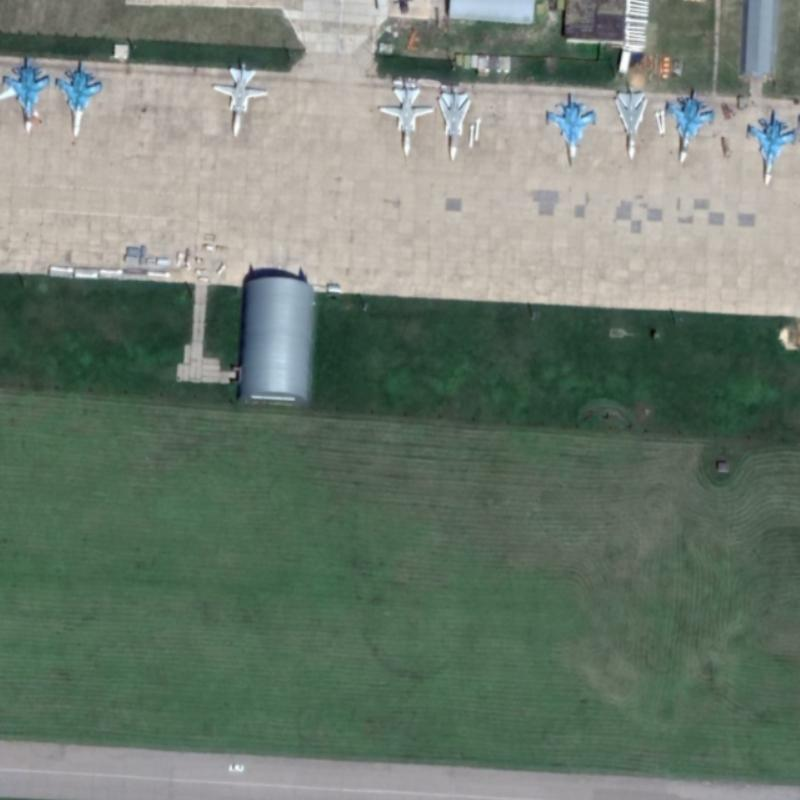A19: (745, 110, 797, 187), (2, 54, 52, 134), (53, 59, 104, 137), (546, 90, 597, 167), (664, 89, 717, 163)
A20: (211, 60, 269, 138), (377, 85, 434, 158), (435, 85, 471, 162), (612, 85, 648, 160)
